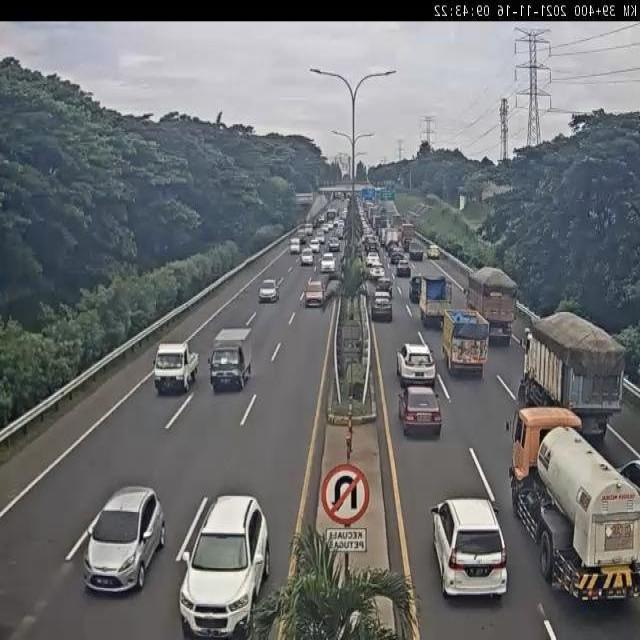Car: (178, 494, 275, 639), (82, 484, 167, 591), (430, 496, 508, 603), (398, 384, 443, 439), (396, 342, 437, 390), (615, 455, 640, 500), (371, 293, 393, 322), (304, 280, 326, 308), (258, 278, 280, 302), (376, 277, 394, 297), (319, 252, 336, 273), (396, 258, 411, 277), (370, 262, 386, 279), (391, 247, 406, 265), (366, 249, 380, 267), (426, 244, 441, 259), (300, 250, 314, 266), (387, 239, 400, 255), (315, 230, 326, 246), (309, 238, 321, 252), (328, 237, 340, 251), (334, 227, 344, 241), (322, 223, 329, 233), (338, 220, 346, 226)
Truck: (505, 400, 640, 601), (518, 310, 626, 446), (462, 266, 520, 346), (440, 308, 492, 377), (206, 327, 254, 392), (152, 340, 201, 391), (417, 275, 452, 328), (399, 222, 417, 251), (409, 275, 424, 305), (384, 228, 399, 250), (408, 241, 424, 261), (392, 214, 404, 232), (288, 238, 300, 253)
